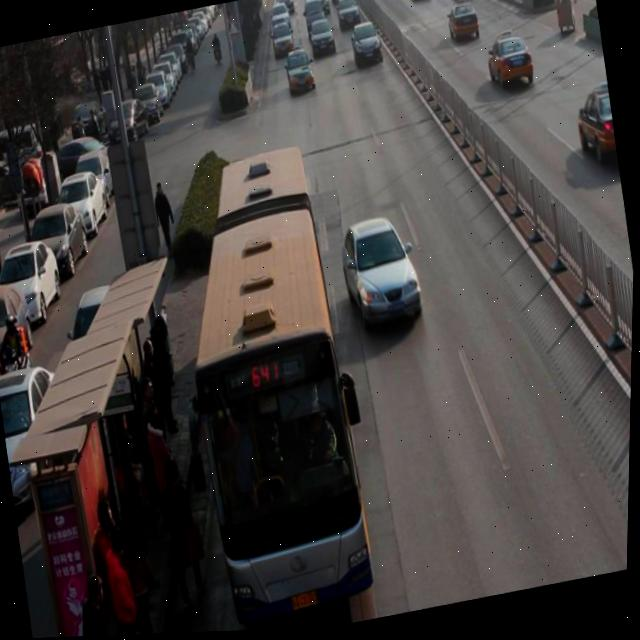car: (336, 214, 429, 337), (485, 32, 538, 98), (349, 23, 385, 72), (284, 47, 317, 100), (445, 1, 482, 46), (309, 19, 336, 60), (270, 22, 297, 62), (336, 0, 362, 33), (445, 0, 477, 7), (406, 0, 432, 5)
truck: (303, 0, 328, 40)
van: (161, 144, 385, 628)
